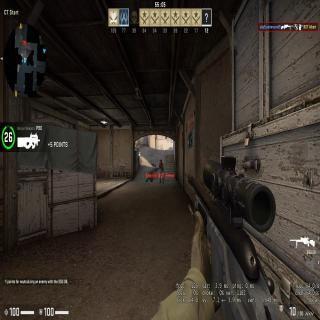T-Body: (159, 160, 164, 184)
T-Head: (160, 160, 162, 163)
